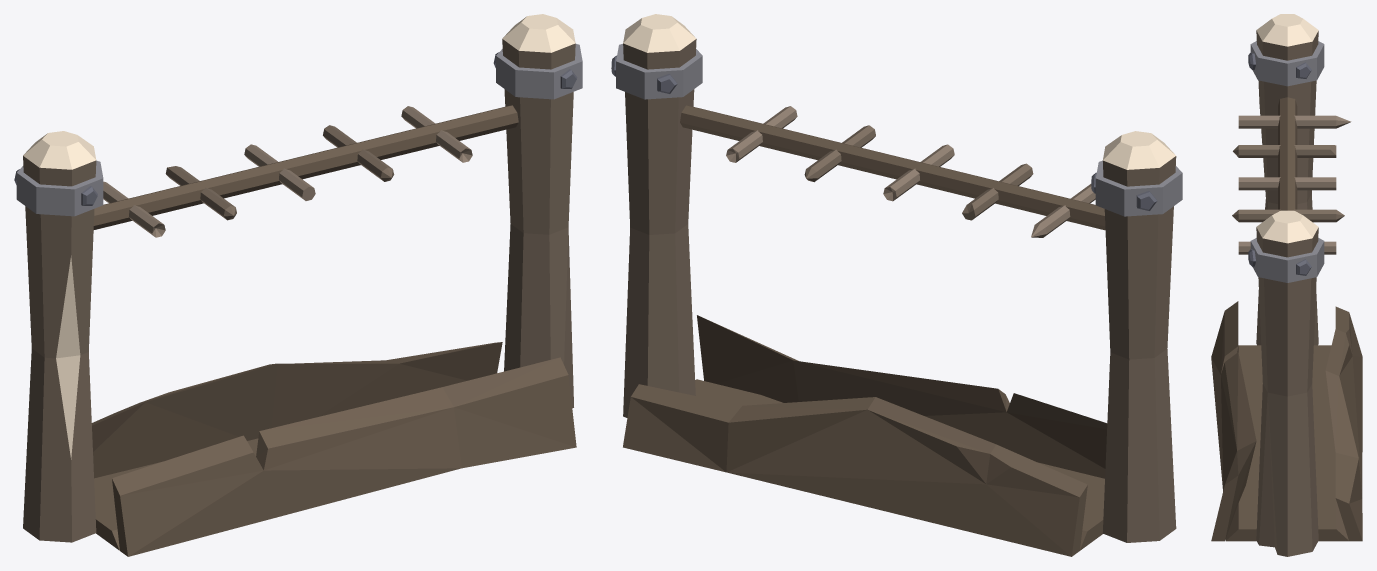
File: _WEAPON_STAND.fbx
The picture shows the model from 3 angles, left to right: view 1: azimuth 30°, elevation 25°; view 2: azimuth 150°, elevation 25°; view 3: azimuth 270°, elevation 25°; orthographic projection. The views are drawn at different scales.
Visible parts, largest first — view 1: WEAPON_STAND; view 2: WEAPON_STAND; view 3: WEAPON_STAND.
Boxes of the visible parts, bbox=[...] form: WEAPON_STAND: bbox=[14, 14, 582, 556]; WEAPON_STAND: bbox=[611, 14, 1182, 556]; WEAPON_STAND: bbox=[1211, 14, 1362, 556].
Bounding box in the file's own units: 318 × 214 × 89.71.
